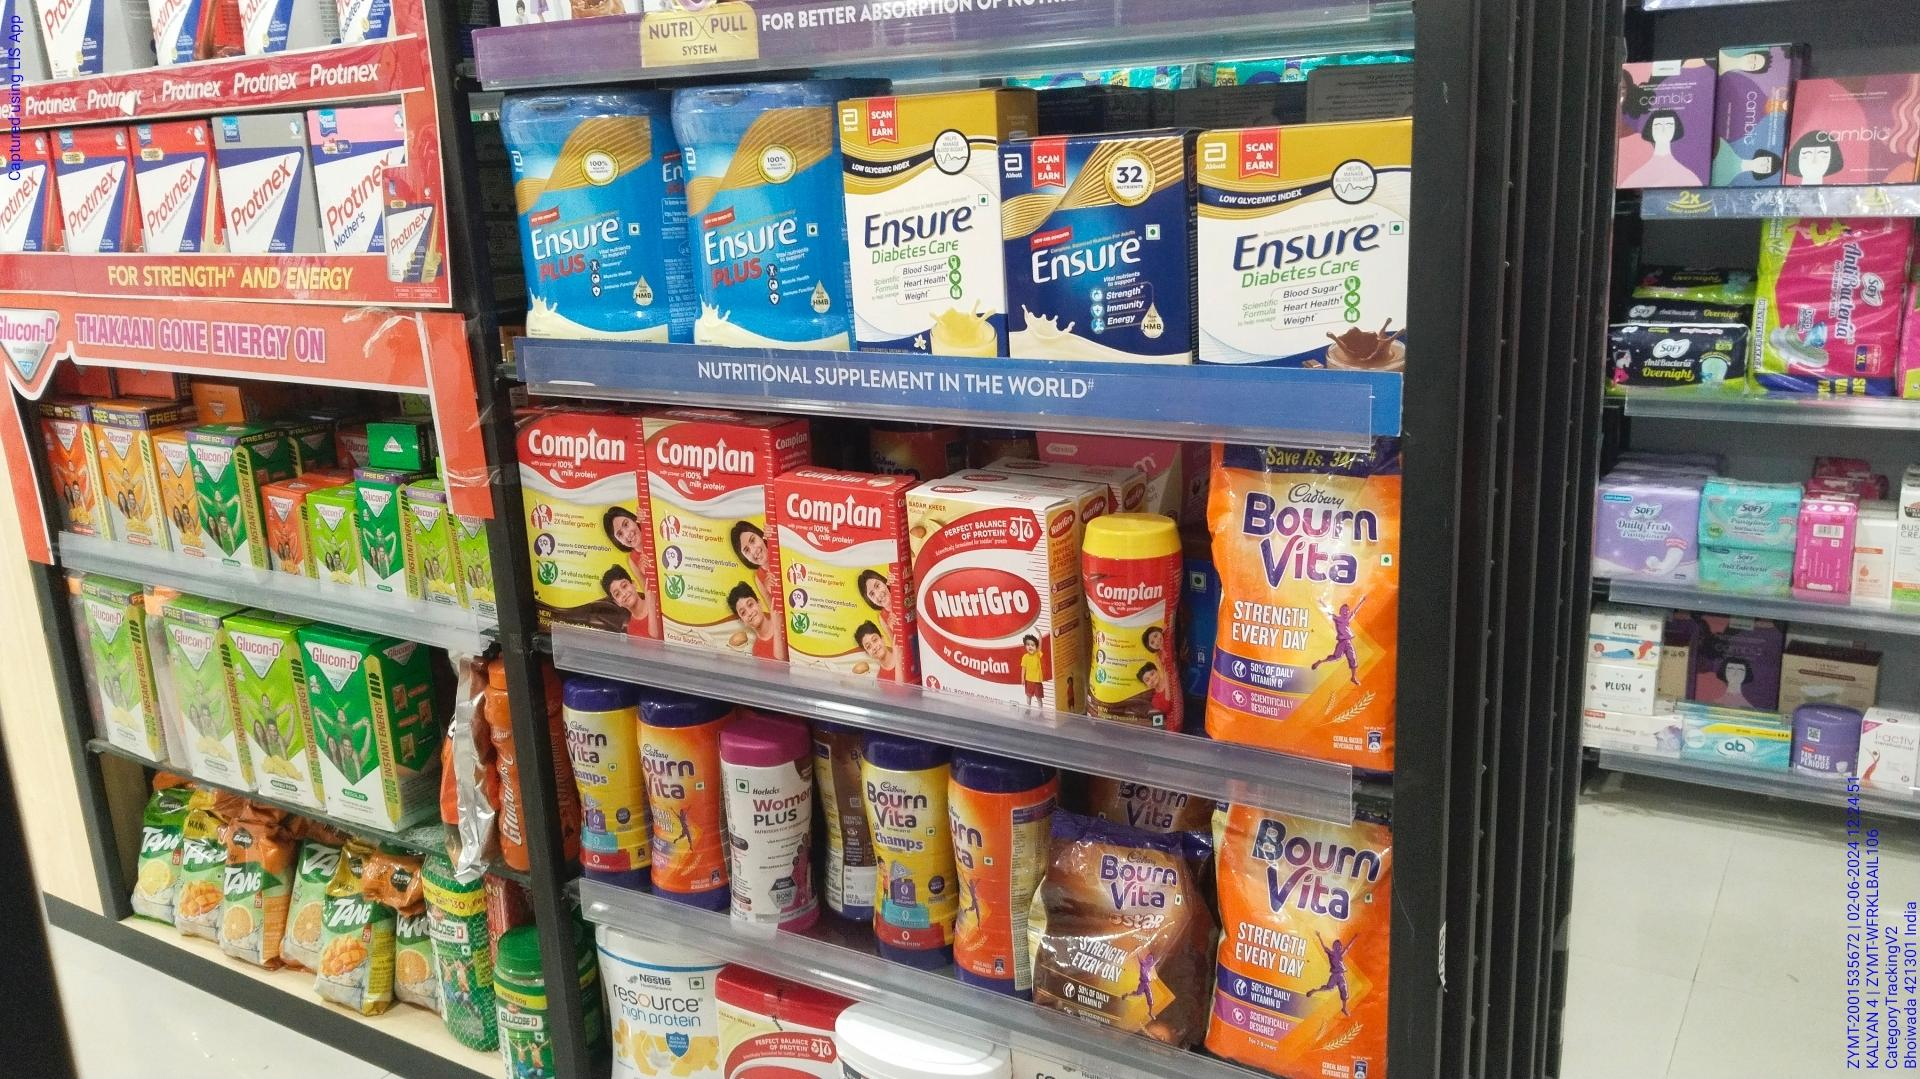BOURN_VITA_CHAMPS_500_G_JAR: (869, 739, 956, 966), (558, 679, 644, 888)
BOURN_VITA_FIVE_STAR_MAGIC_500_G_POUCH: (1029, 809, 1216, 1061)
COMPLAN_CHOCOLATE_200_GMS_JAR: (1081, 512, 1187, 744)
ENSURE_VANILLA_400_G_PACK: (1004, 135, 1189, 384)
